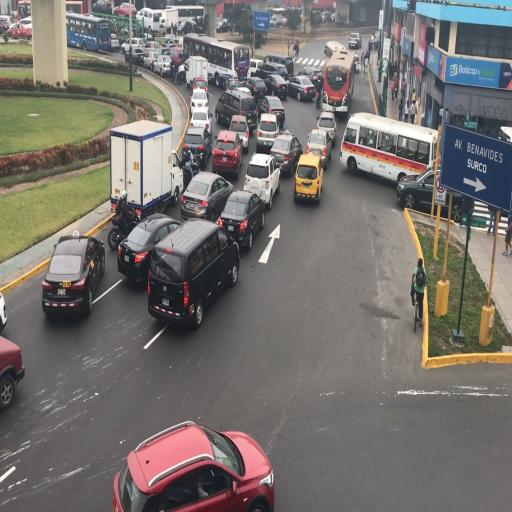auto: (112, 422, 272, 510), (148, 220, 238, 328), (41, 231, 104, 317), (117, 213, 184, 287), (399, 166, 469, 220), (218, 187, 264, 249), (181, 170, 232, 223), (0, 332, 25, 414), (245, 150, 280, 206), (216, 86, 257, 132), (211, 129, 245, 179), (268, 130, 302, 178), (294, 152, 323, 205), (182, 126, 212, 170), (305, 128, 331, 169), (256, 114, 280, 153), (260, 94, 285, 128), (228, 114, 250, 152), (315, 108, 337, 144), (189, 108, 211, 140), (263, 73, 289, 100), (297, 66, 323, 92), (189, 86, 210, 118), (261, 61, 289, 84), (168, 46, 186, 79), (153, 54, 174, 77), (7, 20, 31, 40), (143, 49, 163, 71), (140, 40, 160, 60), (114, 1, 136, 17), (121, 37, 141, 54), (0, 14, 13, 33), (171, 148, 182, 170), (161, 38, 178, 52), (92, 0, 110, 13), (216, 17, 228, 33), (350, 32, 361, 48)
bus: (345, 112, 437, 189), (184, 32, 242, 88), (324, 46, 358, 120), (67, 12, 112, 52), (172, 4, 206, 34), (136, 6, 166, 34), (324, 40, 346, 68), (16, 0, 31, 19), (64, 1, 84, 15)
camion: (108, 121, 173, 224), (186, 54, 208, 91)
moto: (107, 193, 144, 250)
